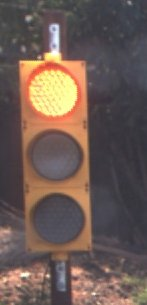Red: (11, 30, 100, 273)
